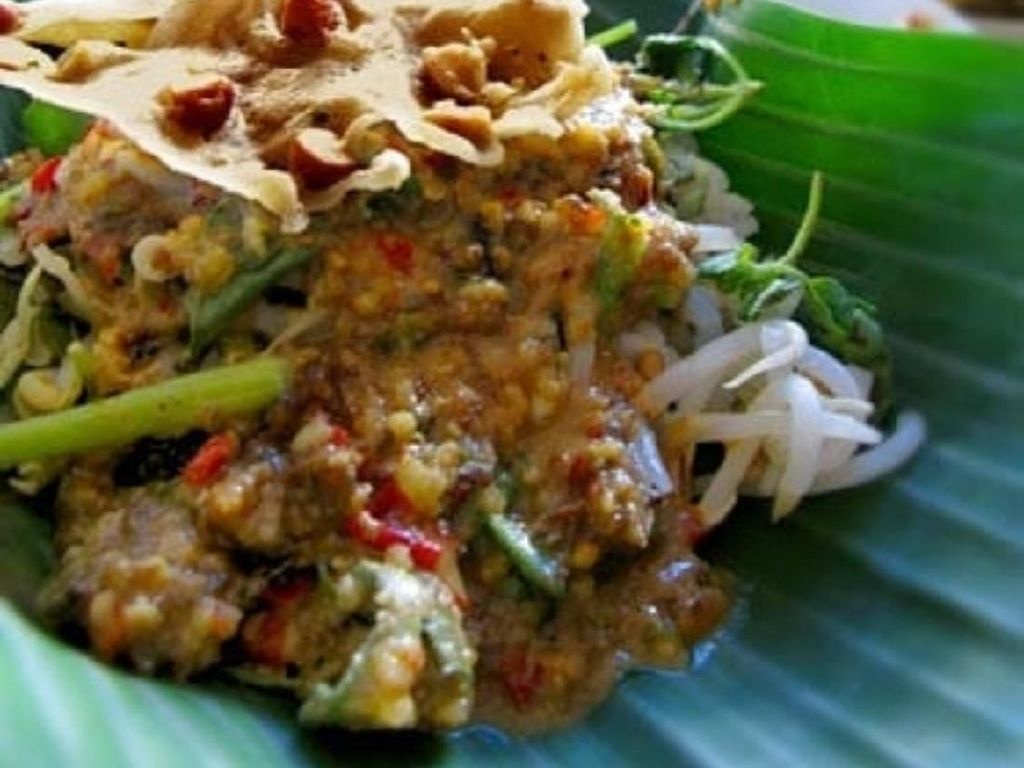pecel: (8, 4, 923, 717)
